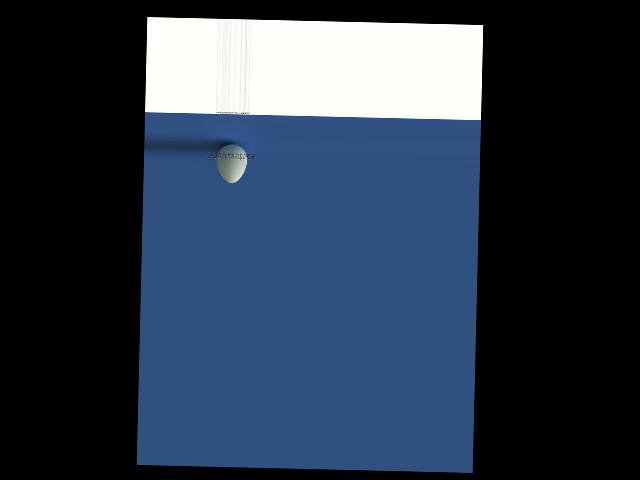egg: (216, 143, 247, 183)
